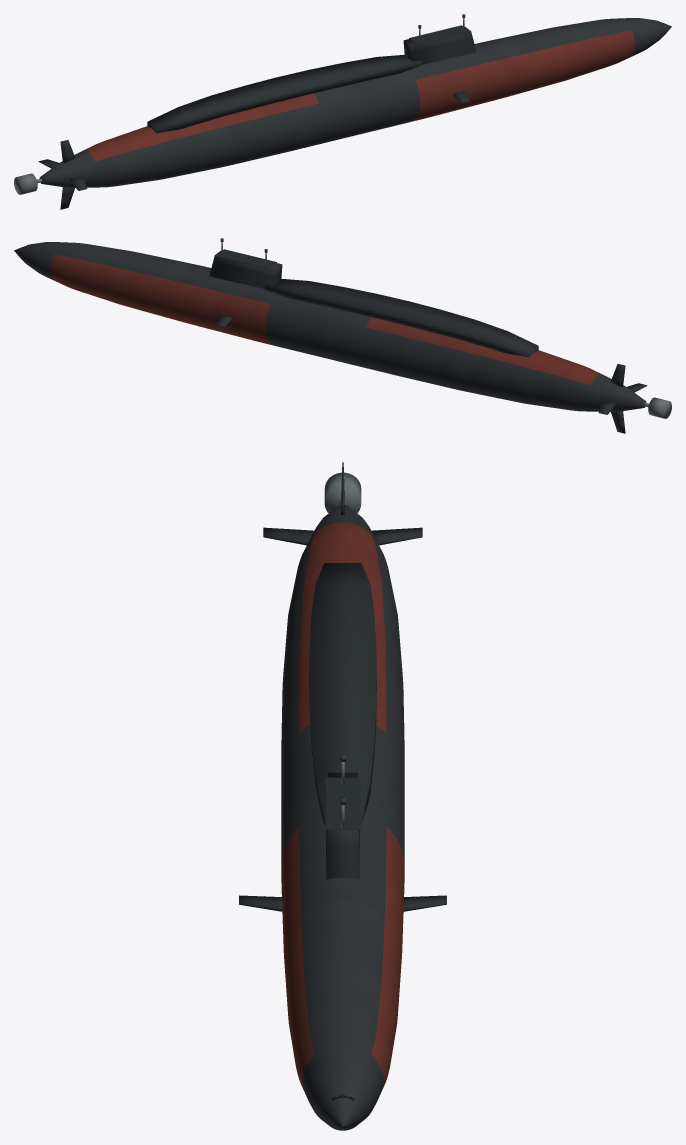
Rendered from IN_SSBN_S4.glb.
3 renders of one model, top to bottom at view 1: azimuth 30°, elevation 25°; view 2: azimuth 150°, elevation 25°; view 3: azimuth 270°, elevation 25°, orthographic. The views are drawn at different scales.
Visible parts, largest first — view 1: IN_SSBN_S4_LOD0; view 2: IN_SSBN_S4_LOD0; view 3: IN_SSBN_S4_LOD0.
Boxes of the visible parts, x1=… form: IN_SSBN_S4_LOD0: x1=14, y1=14, x2=671, y2=209; IN_SSBN_S4_LOD0: x1=14, y1=238, x2=671, y2=433; IN_SSBN_S4_LOD0: x1=239, y1=462, x2=446, y2=1130.
Bounding box in the file's own units: 135 × 19 × 18.57.
6 materials, 1 textured.
